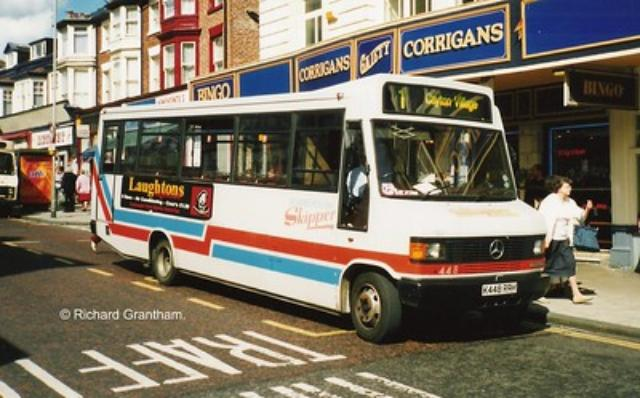bus: (88, 74, 550, 346)
